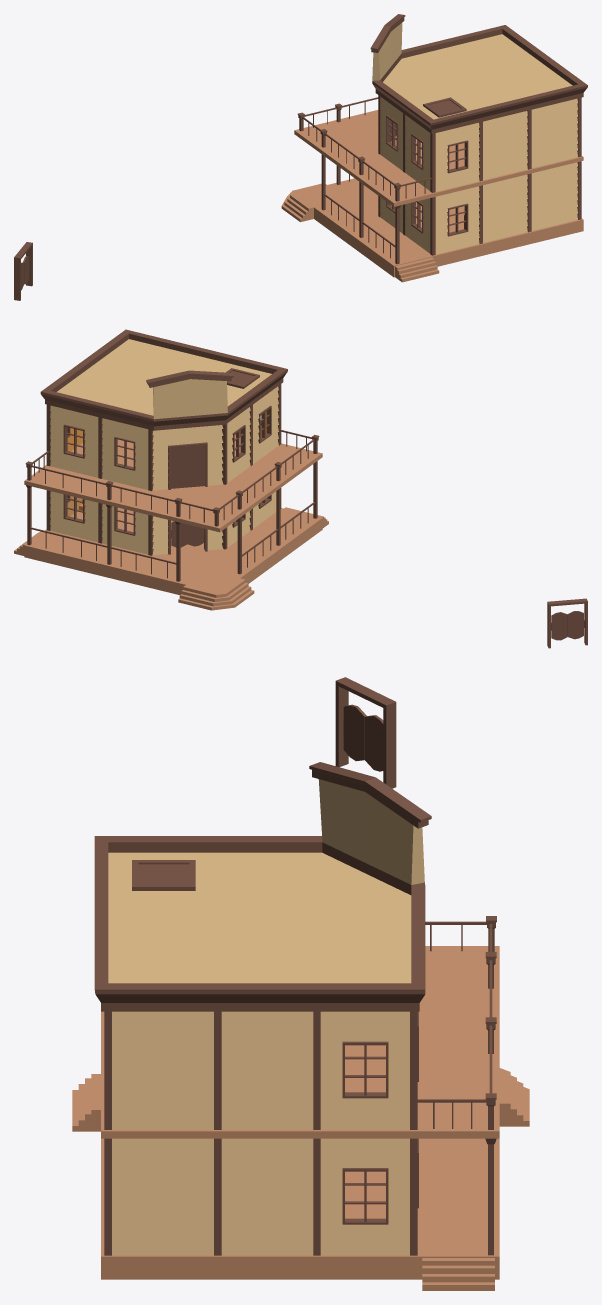
File: Western_Saloon_1.0.glb
The picture shows the model from 3 angles, top to bottom: view 1: azimuth 30°, elevation 25°; view 2: azimuth 150°, elevation 25°; view 3: azimuth 270°, elevation 25°; orthographic projection. The views are drawn at different scales.
Parts seen in each view (by area): view 1: Teto, OldalLec, Talaj, AblakosOldalLec, Emelet, KulsoKorlat, Ablak, KulsoEsOszlopok.001, KulsoEsOszlopok, Ajto_DarkBrown_0.001; view 2: Teto, Talaj, AblakosOldalLec, Emelet, KulsoKorlat, Bejarat, Ablak, KulsoEsOszlopok.001, FentiAjto, Ajto_DarkBrown_0.001, KulsoEsOszlopok; view 3: Teto, OldalLec, Talaj, Emelet, AblakosOldalLec, Ajto_DarkBrown_0.001, KulsoEsOszlopok.001, KulsoEsOszlopok, KulsoKorlat, Ablak.
Part boxes in pixels (x1,y1,x2,y2): Teto: (370, 14, 587, 133); OldalLec: (483, 98, 577, 242); Talaj: (281, 178, 583, 282); AblakosOldalLec: (380, 97, 479, 254); Emelet: (294, 110, 583, 206); KulsoKorlat: (297, 97, 431, 264); Ablak: (386, 115, 468, 236); KulsoEsOszlopok.001: (378, 95, 581, 192); KulsoEsOszlopok: (378, 161, 581, 255); Ajto_DarkBrown_0.001: (14, 242, 32, 300); Teto: (40, 329, 287, 430); Talaj: (14, 507, 328, 610); AblakosOldalLec: (50, 386, 278, 554); Emelet: (24, 435, 322, 532); KulsoKorlat: (25, 429, 319, 581); Bejarat: (152, 425, 223, 554); Ablak: (63, 405, 271, 535); KulsoEsOszlopok.001: (46, 384, 281, 491); FentiAjto: (168, 442, 207, 489); Ajto_DarkBrown_0.001: (547, 598, 587, 648); KulsoEsOszlopok: (46, 488, 281, 555); Teto: (94, 762, 431, 1011); OldalLec: (112, 1011, 313, 1254); Talaj: (72, 1068, 529, 1290); Emelet: (101, 946, 499, 1138); AblakosOldalLec: (320, 1011, 409, 1254); Ajto_DarkBrown_0.001: (335, 677, 396, 788); KulsoEsOszlopok.001: (104, 1011, 417, 1129); KulsoEsOszlopok: (104, 1138, 417, 1255); KulsoKorlat: (417, 916, 496, 1255); Ablak: (342, 1011, 418, 1224).
Bounding box in the file's own units: 14.08 × 4.86 × 5.37.
